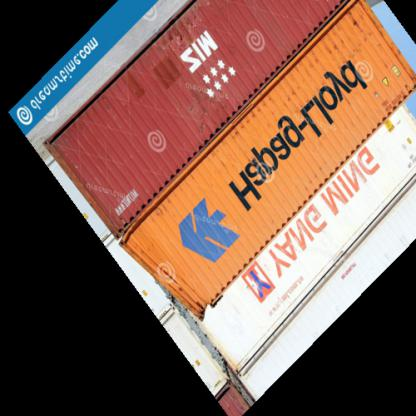Damage: (154, 280, 223, 329)
